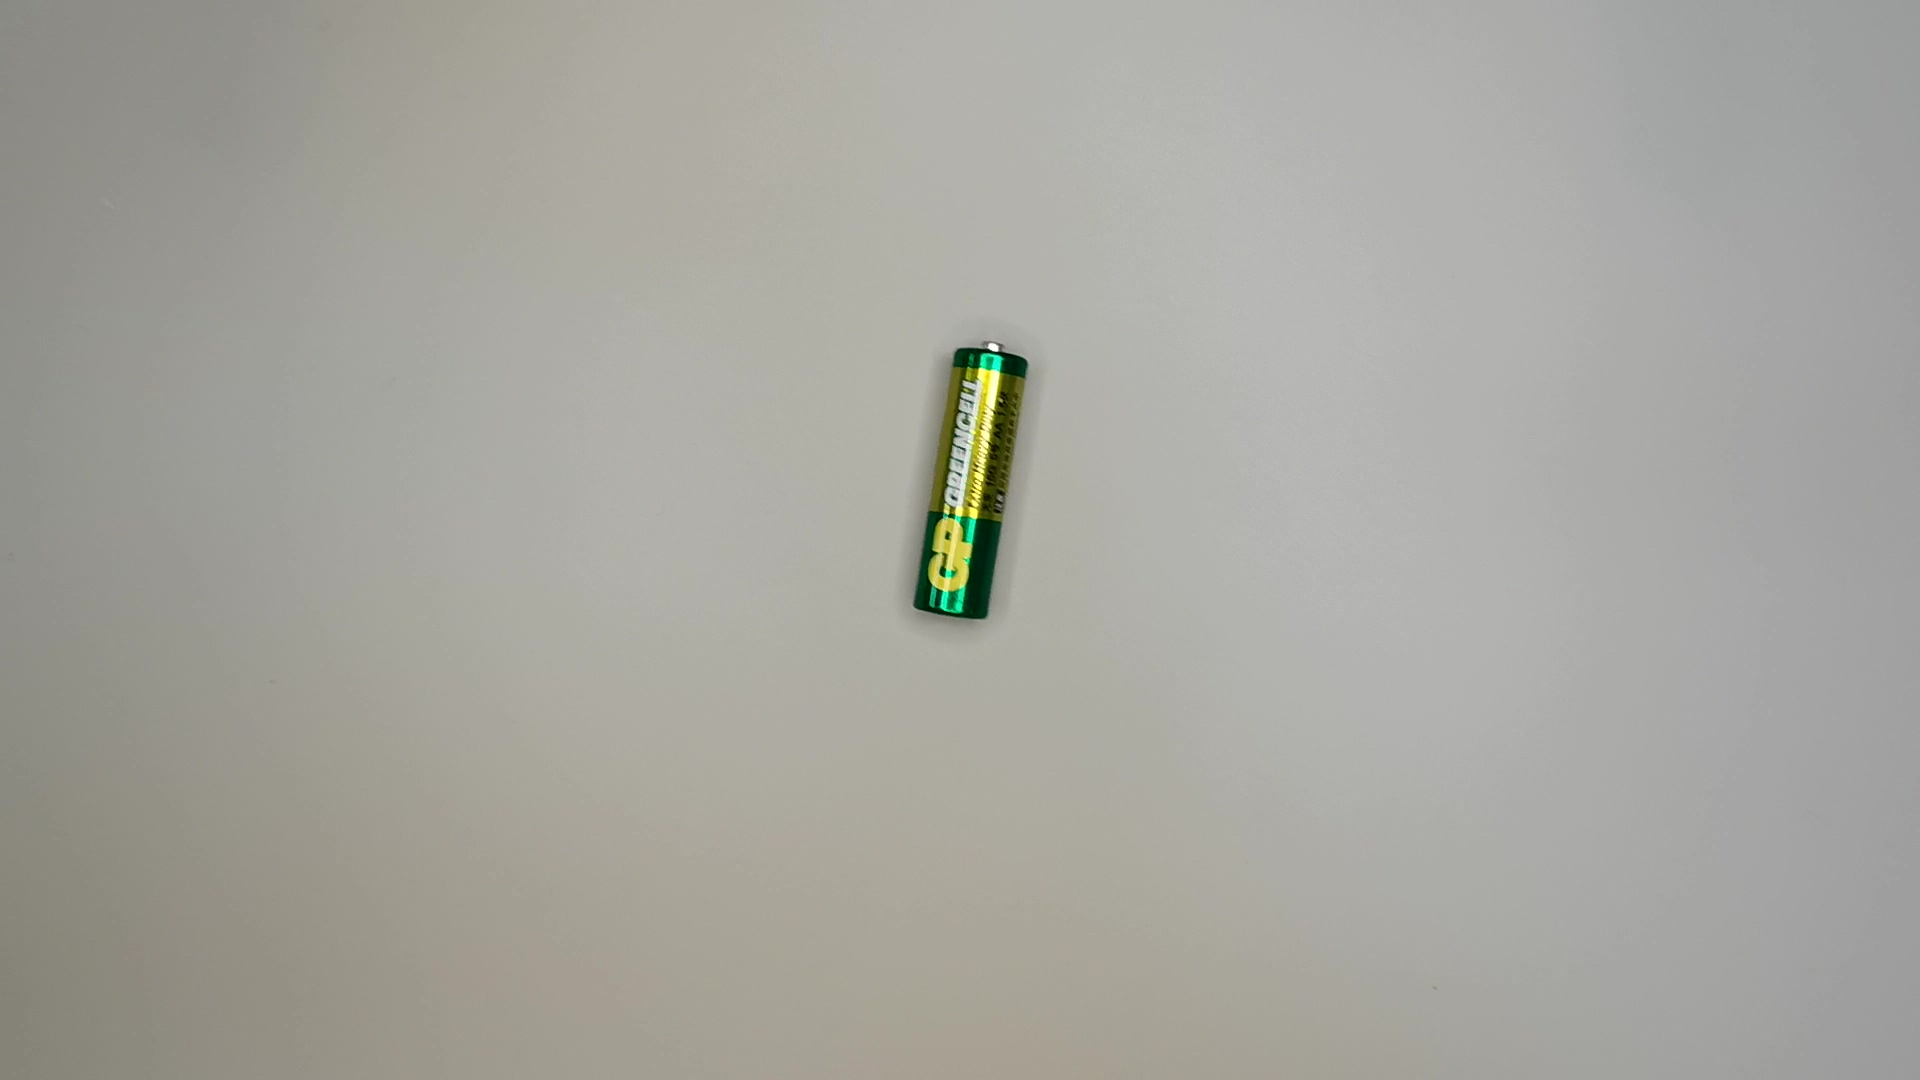battery: (907, 334, 1040, 630)
